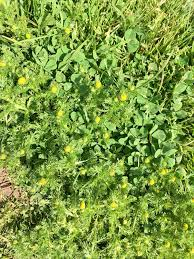pineple: (14, 107, 106, 204)
